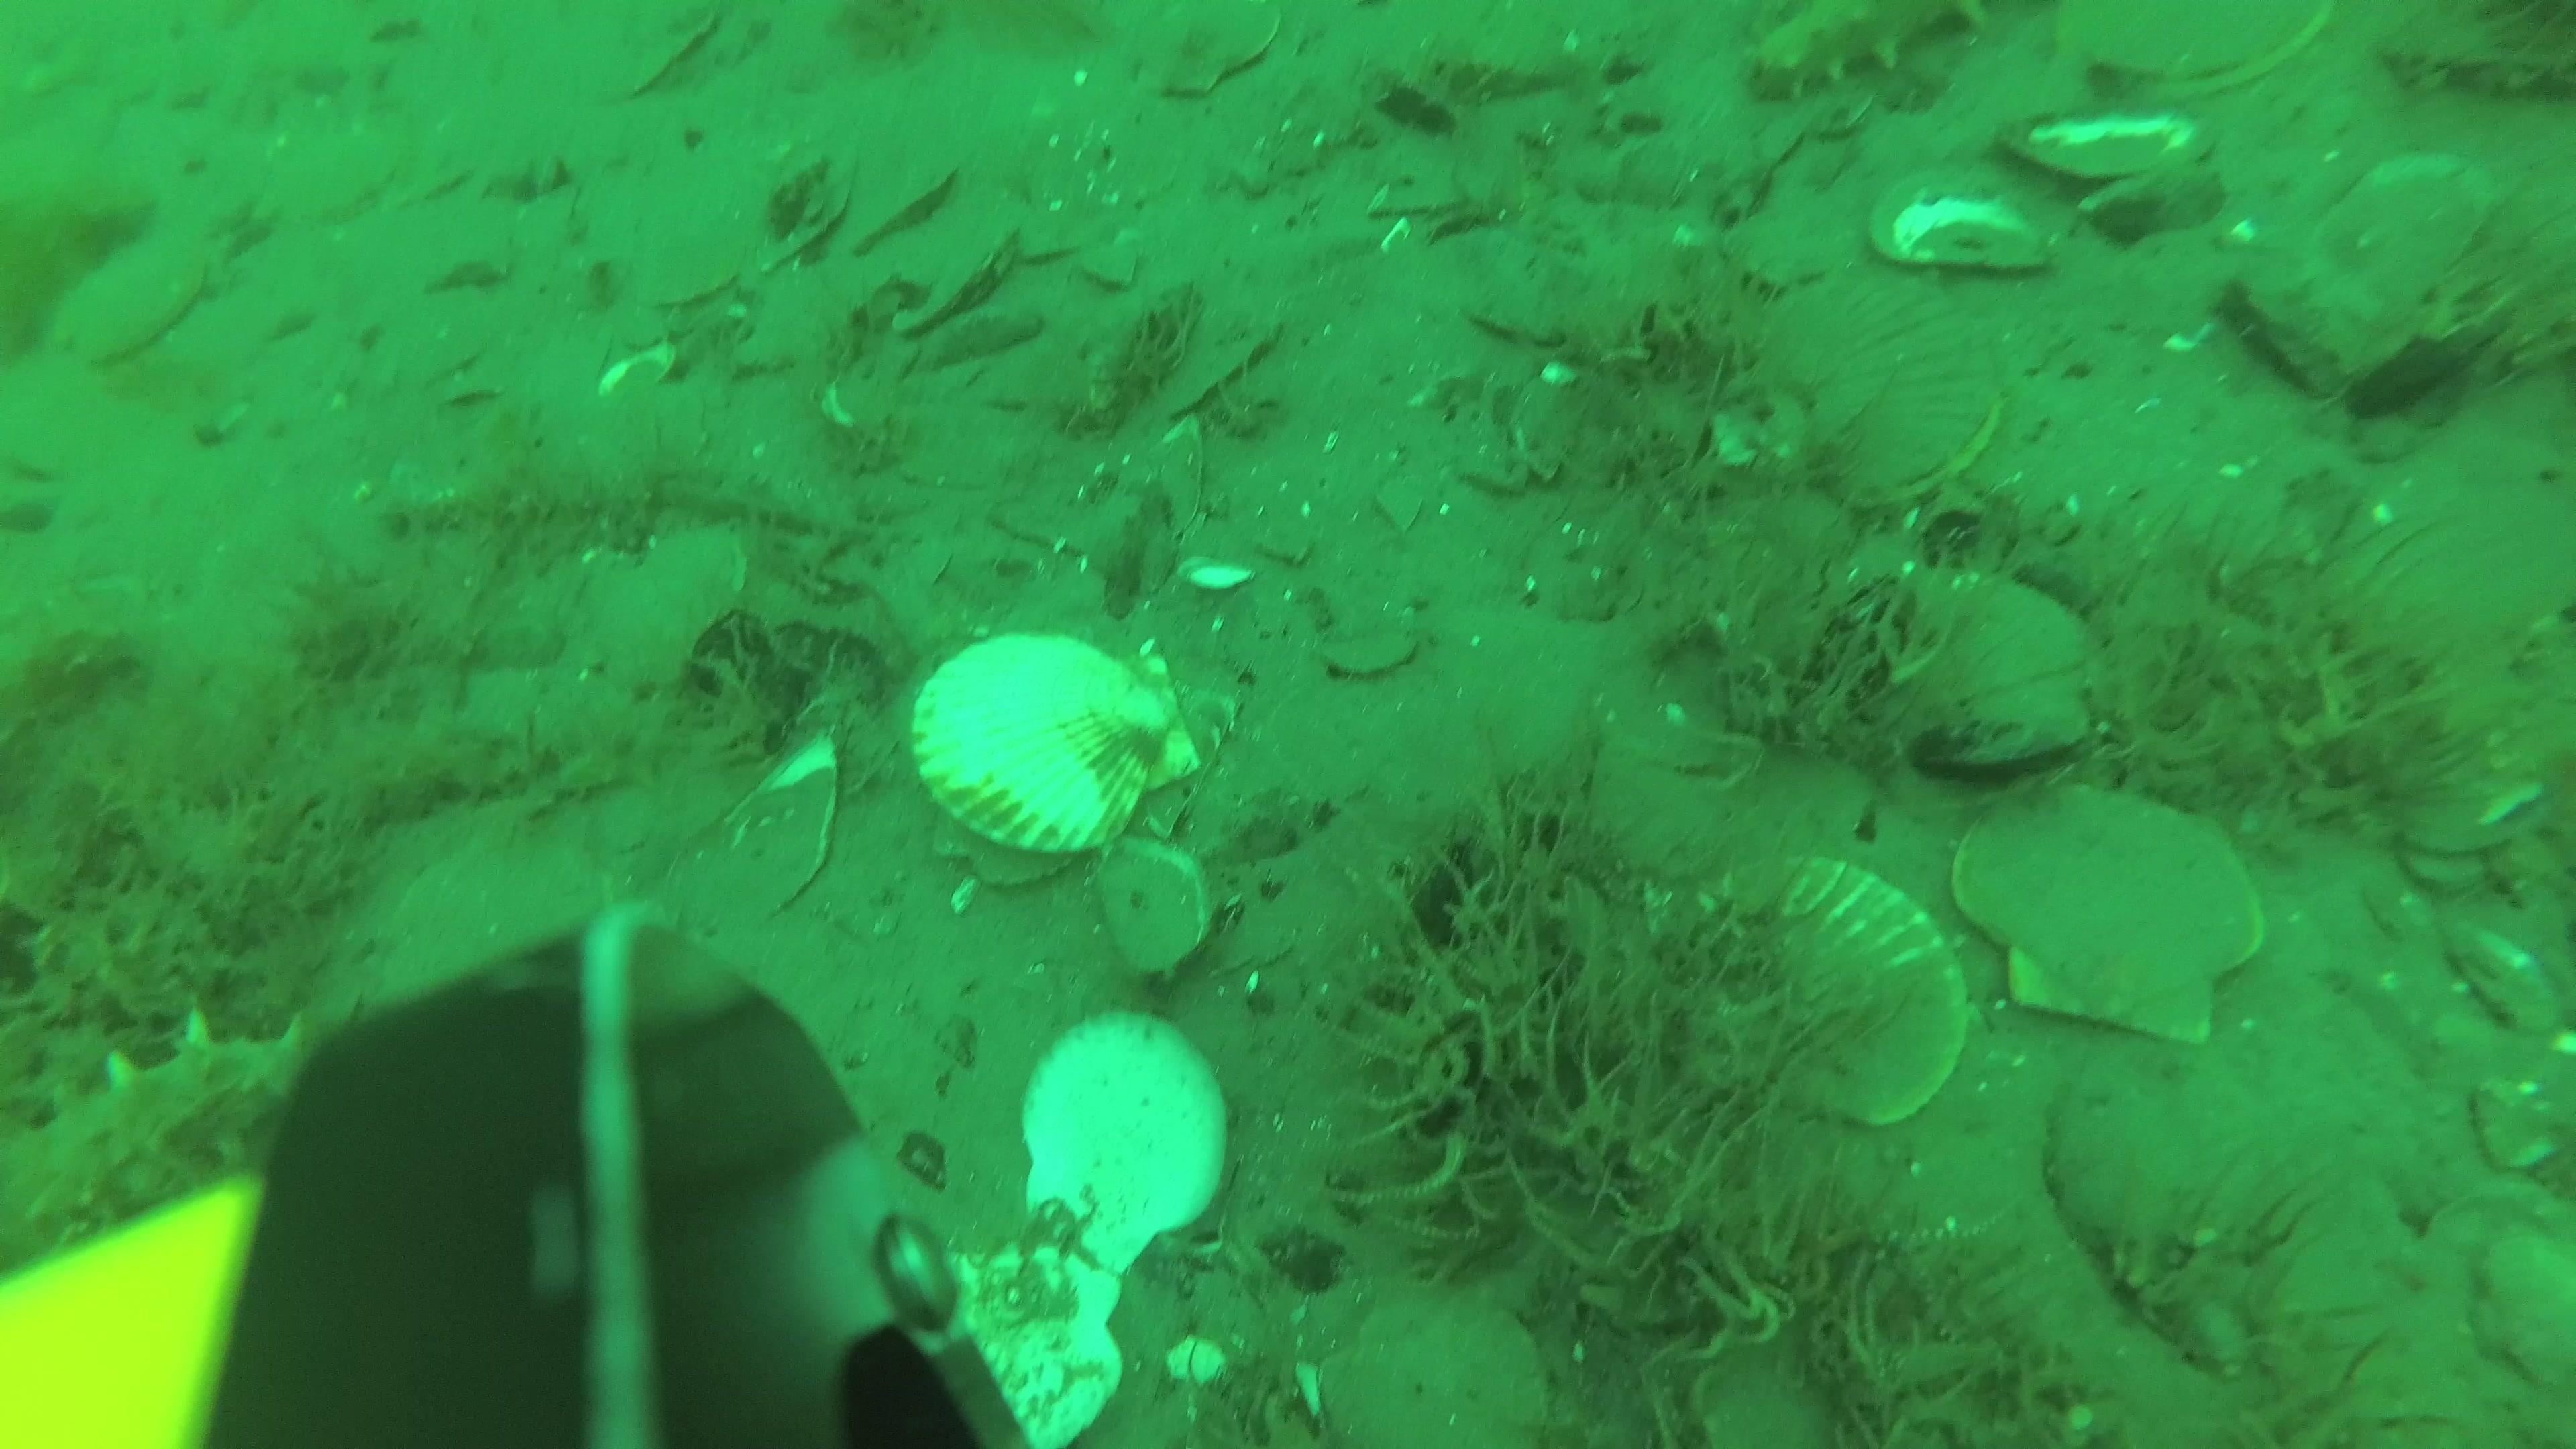holothurian: (5, 1000, 317, 1253), (1757, 4, 1992, 90)
scallop: (1939, 782, 2275, 1054), (1668, 855, 1974, 1129), (909, 625, 1200, 872), (1737, 272, 2006, 510), (1810, 561, 2104, 777), (1010, 1017, 1254, 1272), (1276, 1276, 1555, 1449), (936, 1235, 1125, 1449), (656, 736, 840, 929), (580, 525, 764, 695), (2051, 7, 2335, 108), (2468, 1221, 2576, 1412), (48, 249, 203, 375), (1472, 663, 1606, 784)
